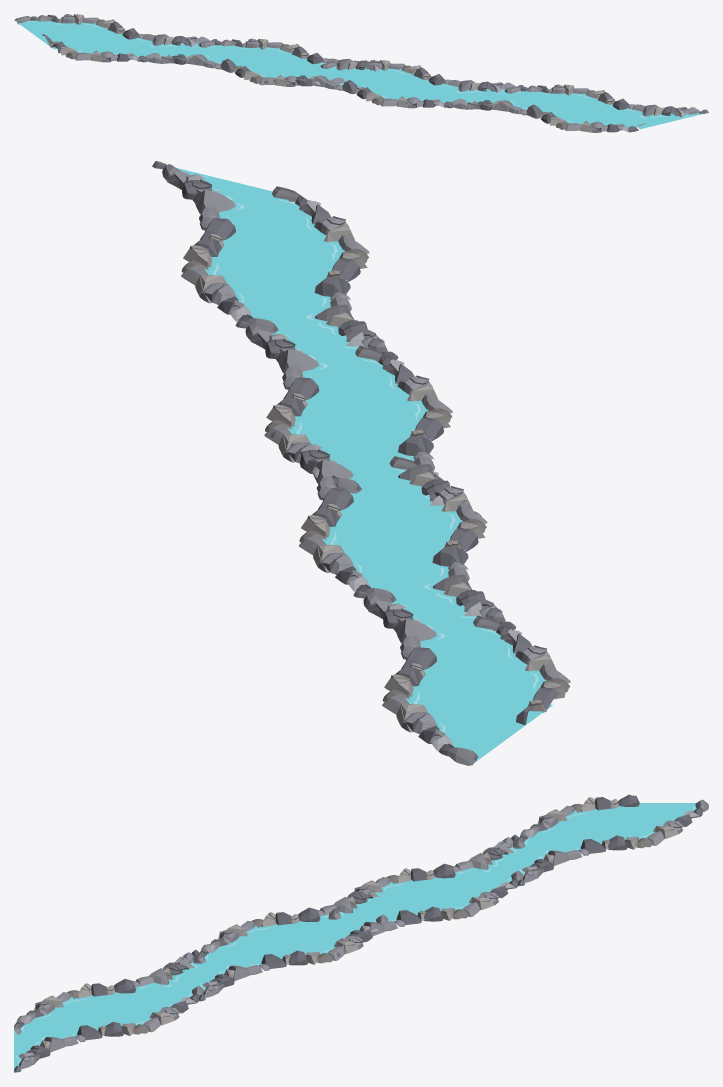
File: River.gltf
The picture shows the model from 3 angles, top to bottom: view 1: azimuth 30°, elevation 25°; view 2: azimuth 150°, elevation 25°; view 3: azimuth 270°, elevation 25°; orthographic projection. The views are drawn at different scales.
Parts seen in each view (by area): view 1: River_glb; view 2: River_glb; view 3: River_glb.
Boxes of the visible parts, box(x1,y1,x2,y2) form: River_glb: box(14, 14, 708, 132); River_glb: box(152, 161, 570, 765); River_glb: box(14, 794, 708, 1072).
Size of what is drawn, in the model's own units: 40.69 by 0.7544 by 44.33.
2 materials, 2 textured.
